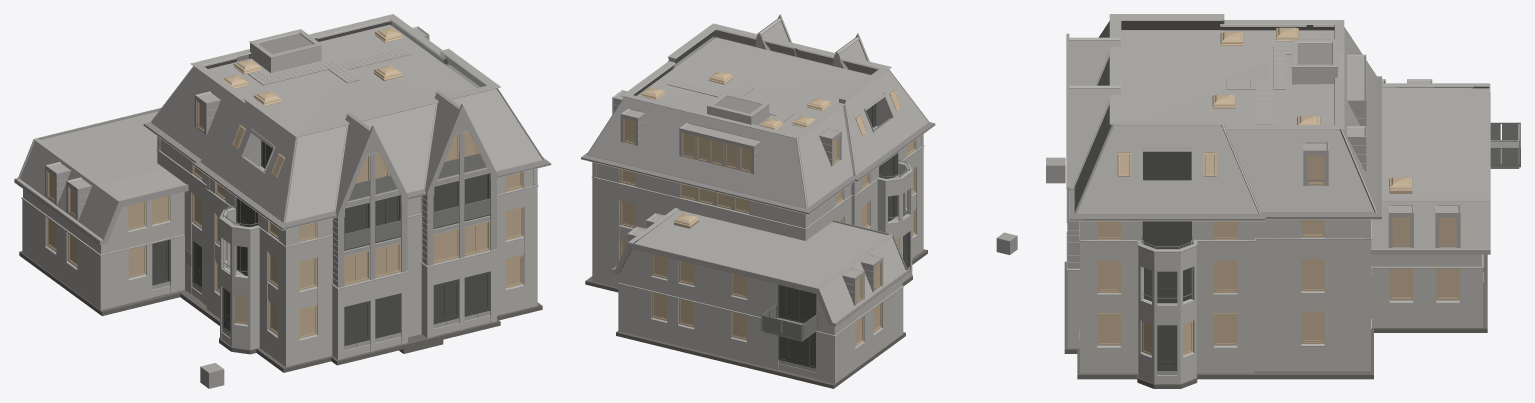
File: schep.glb
3 views of the same model, side by side, from view 1: azimuth 30°, elevation 25°; view 2: azimuth 150°, elevation 25°; view 3: azimuth 270°, elevation 25° (orthographic). The views are drawn at different scales.
Visible parts, largest first — view 1: IfcCovering_1012538, IfcCovering_838471, IfcCovering_700853, IfcCovering_838628, IfcCovering_828839, IfcCovering_825064, IfcCovering_834703, IfcCovering_455089, IfcCovering_701011, IfcCovering_861866, IfcCovering_781078, IfcWall_147760 (+59 smaller); view 2: IfcCovering_828640, IfcCovering_1012538, IfcCovering_700853, IfcCovering_838471, IfcCovering_828839, IfcCovering_455089, IfcCovering_441232, IfcBeam_11111, IfcWall_435119, IfcWall_21628, IfcSlab_804224, IfcDoor_427809 (+38 smaller); view 3: IfcCovering_1012538, IfcCovering_700853, IfcCovering_841517, IfcCovering_786581, IfcCovering_467533, IfcWall_390470, IfcWall_384274, IfcCovering_860975, IfcCovering_828640, IfcWall_91795, IfcWall_95685, IfcBeam_10569 (+71 smaller).
Boxes of the visible parts, x1,y1,x2,y2 form: IfcCovering_1012538: (208, 24, 476, 131); IfcCovering_838471: (201, 102, 295, 222); IfcCovering_700853: (40, 111, 164, 184); IfcCovering_838628: (286, 125, 346, 222); IfcCovering_828839: (151, 67, 244, 159); IfcCovering_825064: (452, 89, 542, 171); IfcCovering_834703: (363, 103, 436, 192); IfcCovering_455089: (20, 141, 118, 238); IfcCovering_701011: (102, 169, 185, 199); IfcCovering_861866: (425, 93, 458, 189); IfcCovering_781078: (336, 115, 369, 211); IfcWall_147760: (99, 249, 128, 292); IfcCovering_828640: (588, 97, 805, 207); IfcCovering_1012538: (637, 37, 870, 134); IfcCovering_700853: (634, 210, 868, 287); IfcCovering_838471: (846, 70, 928, 174); IfcCovering_828839: (798, 106, 852, 207); IfcCovering_455089: (819, 236, 904, 321); IfcCovering_441232: (611, 243, 835, 326); IfcBeam_11111: (616, 331, 841, 388); IfcWall_435119: (694, 264, 731, 305); IfcWall_21628: (618, 324, 778, 369); IfcSlab_804224: (591, 157, 801, 211); IfcDoor_427809: (778, 285, 816, 323); IfcCovering_1012538: (1120, 30, 1334, 129); IfcCovering_700853: (1382, 87, 1489, 199); IfcCovering_841517: (1077, 125, 1258, 213); IfcCovering_786581: (1226, 130, 1374, 211); IfcCovering_467533: (1372, 202, 1488, 247); IfcWall_390470: (1254, 252, 1301, 305); IfcWall_384274: (1324, 252, 1370, 305); IfcCovering_860975: (1070, 89, 1120, 186); IfcCovering_828640: (1342, 28, 1376, 210); IfcWall_91795: (1254, 305, 1301, 351); IfcWall_95685: (1324, 305, 1370, 351); IfcBeam_10569: (1077, 363, 1373, 379).
Size of the model in its own units: 23.94 by 15.06 by 24.47.
